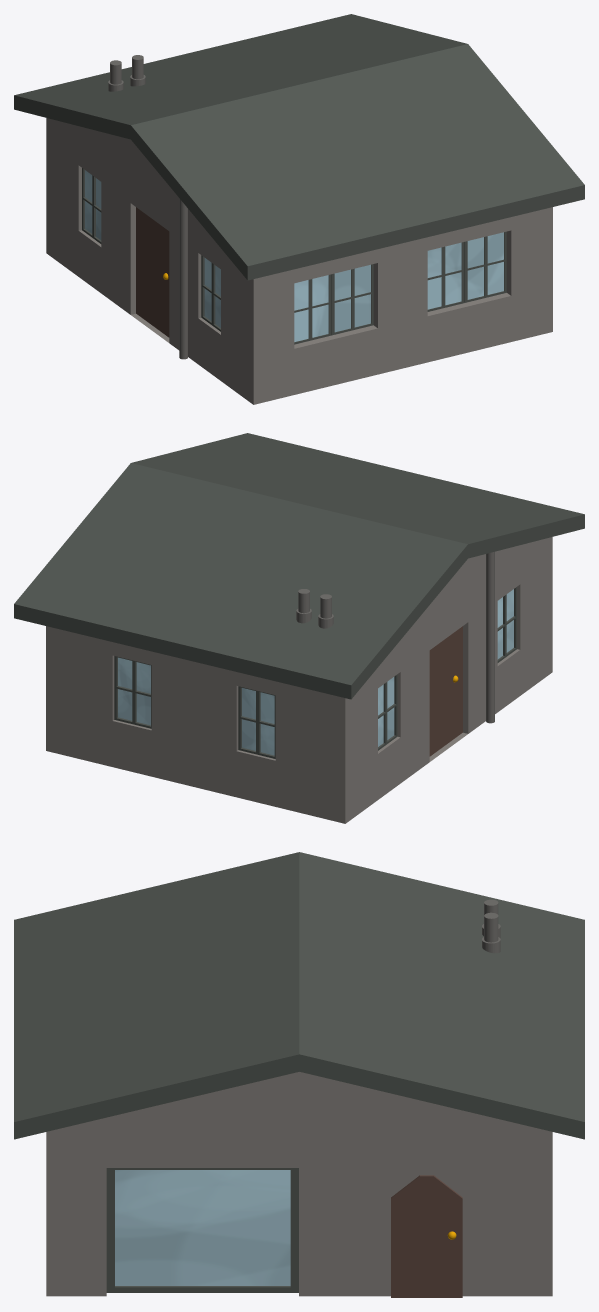
File: TPCS_House_006_V1.fbx
3 views of the same model, one above another, from view 1: azimuth 30°, elevation 25°; view 2: azimuth 150°, elevation 25°; view 3: azimuth 270°, elevation 25° (orthographic). The views are drawn at different scales.
Visible parts, largest first — view 1: Cube.165; view 2: Cube.165; view 3: Cube.165.
Part boxes in pixels (bbox=[...]): Cube.165: bbox=[14, 14, 584, 404]; Cube.165: bbox=[14, 433, 584, 823]; Cube.165: bbox=[14, 852, 584, 1297].
Bounding box in the file's own units: 564 × 333 × 676.
